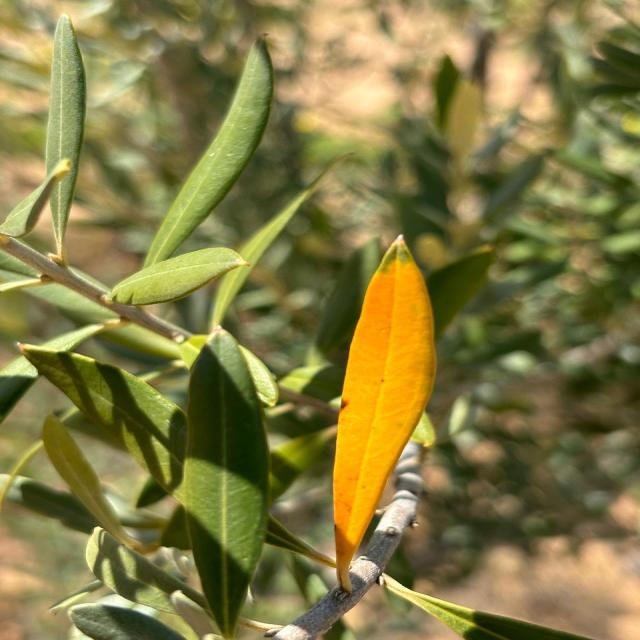Peacock Eye: (333, 236, 435, 592)
